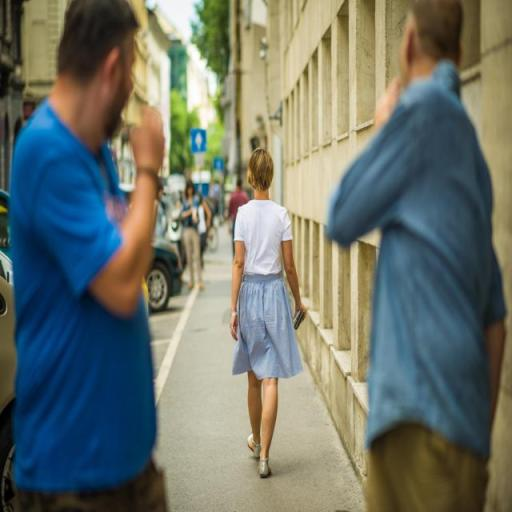person: (335, 1, 512, 512), (8, 4, 173, 512), (230, 145, 307, 482), (177, 180, 207, 297)
